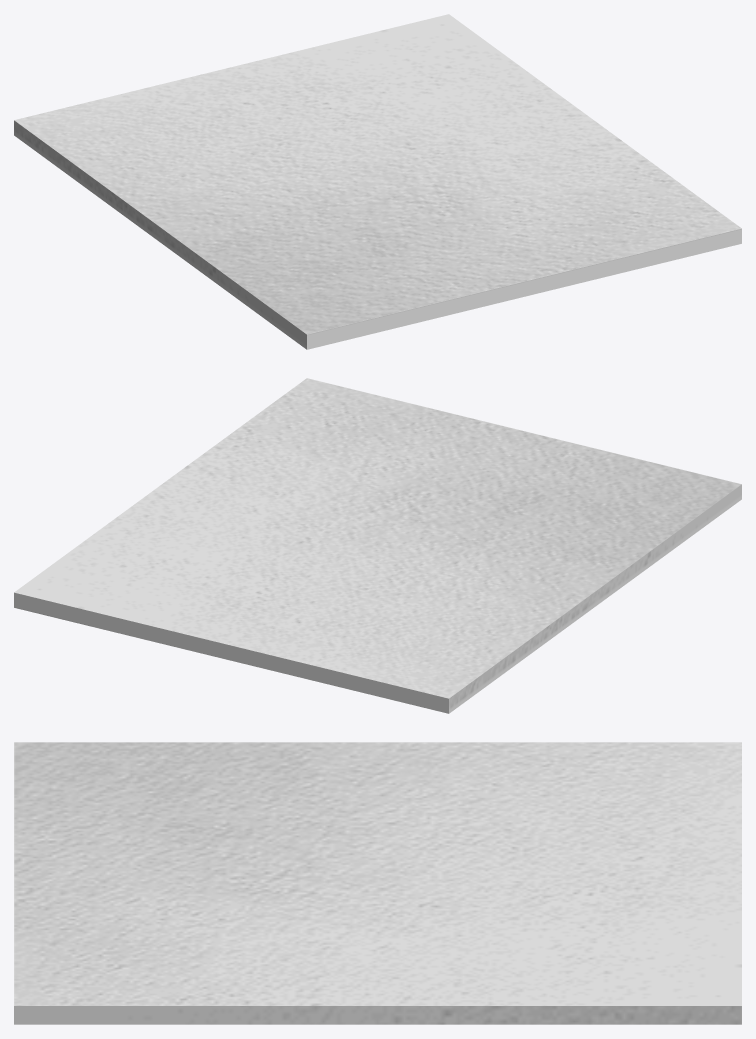
The model's file is Teto(Quarto-Noite).glb.
The picture shows the model from 3 angles, top to bottom: view 1: azimuth 30°, elevation 25°; view 2: azimuth 150°, elevation 25°; view 3: azimuth 270°, elevation 25°; orthographic projection. The views are drawn at different scales.
Parts seen in each view (by area): view 1: Ceiling2; view 2: Ceiling2; view 3: Ceiling2.
Part boxes in pixels (x1,y1,x2,y2): Ceiling2: [14, 14, 741, 349]; Ceiling2: [14, 378, 741, 713]; Ceiling2: [14, 742, 741, 1024].
Bounding box in the file's own units: 6 × 0.5037 × 7.
Materials: 3 (1 with a texture image).
